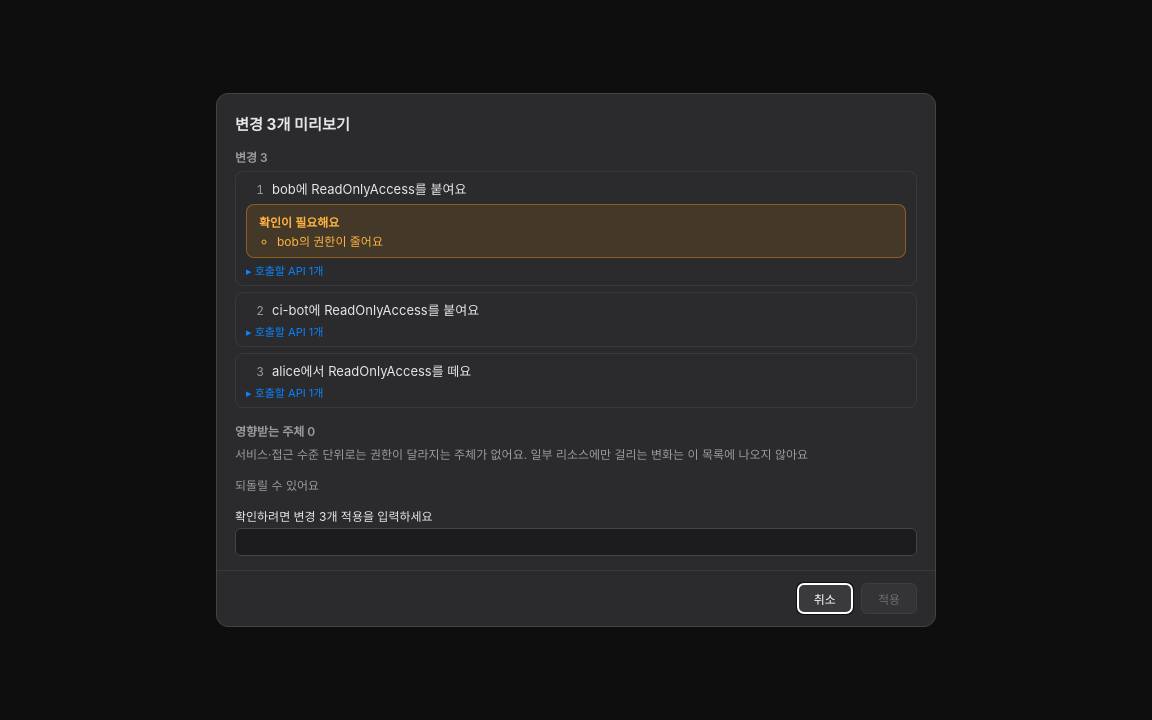
it: type to confirm › a confirm warning on one change alone asks for the text of the batch
The width and height of the screenshot is (1152, 720).
expect the button "적용" is disabled: met, box [861,583,917,614]
Type "변경 3개 적용" into the field labelled "확인하려면 변경 3개 적용을 입력하세요" at [576, 542], box [235,528,917,556]
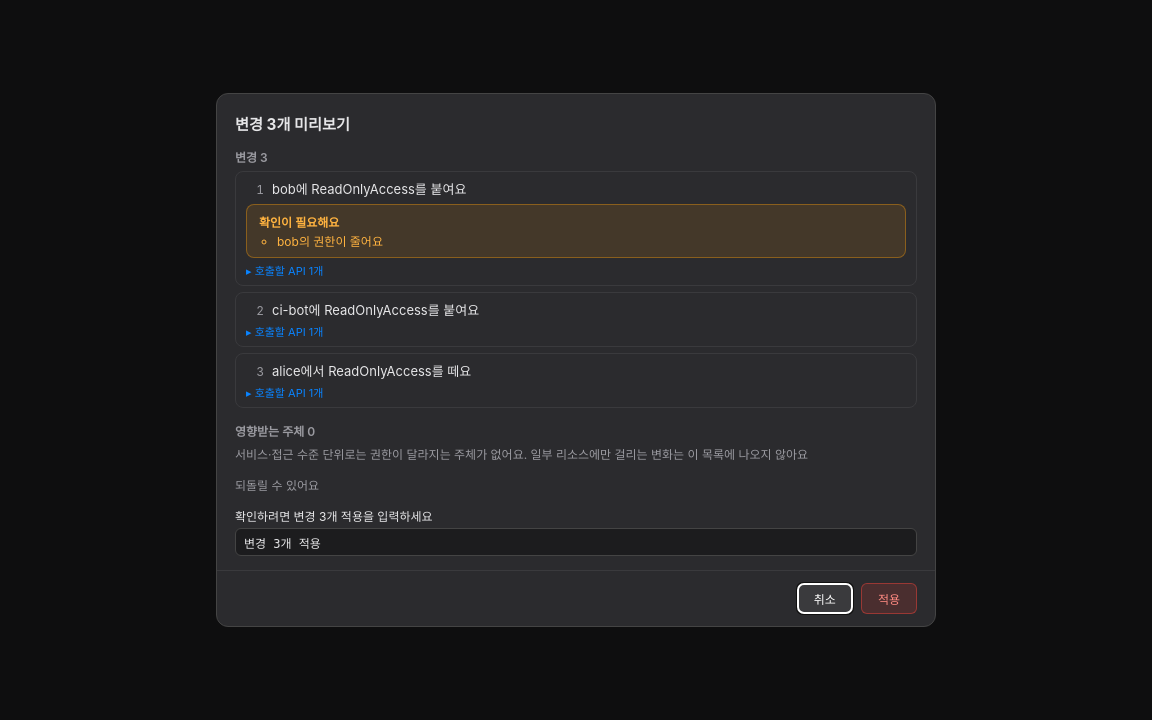
expect the button "적용" is enabled: met, box [861,583,917,614]
